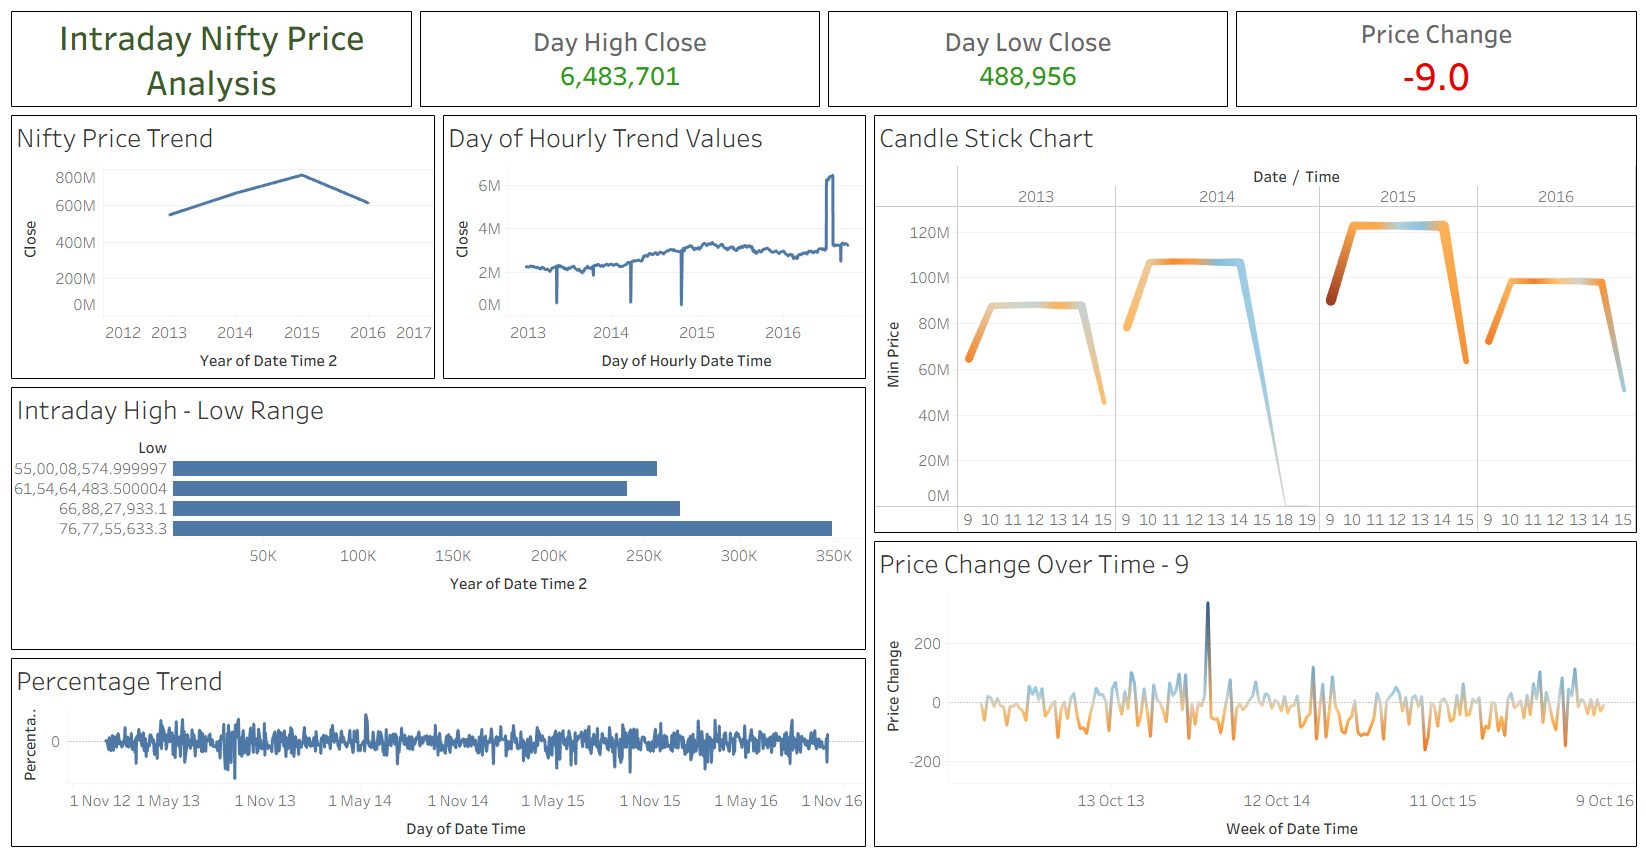

This screenshot's page, from the dashboard's own definition file:
{"tool":"tableau","page":{"name":"Dashboard 1","canvas":[1000,1000],"units":"permille","ordinal":0},"visuals":[{"type":"text","box":[4.9,9.3,247.6,120.9]},{"type":"text","box":[252.4,9.3,247.6,120.9]},{"type":"text","box":[500,9.3,247.6,120.9]},{"type":"text","box":[747.6,9.3,247.6,120.9]},{"type":"worksheet","title":"Nifty Price Trend","mark":"Automatic","rows":["close"],"cols":["Calculation_1051872017913851914"],"box":[4.9,130.2,261.5,316.2]},{"type":"worksheet","title":"Day of Hourly Trend Values","mark":"Automatic","rows":["close"],"cols":["Calculation_740279219029159936"],"box":[266.4,130.2,261.5,316.2]},{"type":"worksheet","title":"Candle Stick Chart","mark":"Automatic","rows":["Calculation_1051872017850372103"],"cols":["date","time"],"box":[527.9,130.2,467.3,495.2]},{"type":"worksheet","title":"Intraday High - Low Range","mark":"Automatic","rows":["low"],"cols":["Calculation_1051872017913851914"],"box":[4.9,446.5,523,315]},{"type":"worksheet","title":"Price Change Over Time","mark":"Automatic","rows":["Calculation_1051872017846329348"],"cols":["Calculation_1051872017912754185"],"box":[527.9,625.4,467.3,365.3]},{"type":"worksheet","title":"Percentage Trend","mark":"Automatic","rows":["Calculation_1051872017846509573"],"cols":["Calculation_1051872017912754185"],"box":[4.9,761.5,523,229.2]}]}

Visuals, with their boxes on the dashboard's canvas, which has no fixed pixel size, in thousandths of its width and height (x1, y1, x2, y2). These are canvas units, not pixel positions in the 1646x857 screenshot, which may show the page scaled, cropped or inside an application window:
text: {"x1": 5, "y1": 9, "x2": 252, "y2": 130}
text: {"x1": 252, "y1": 9, "x2": 500, "y2": 130}
text: {"x1": 500, "y1": 9, "x2": 748, "y2": 130}
text: {"x1": 748, "y1": 9, "x2": 995, "y2": 130}
"Nifty Price Trend" worksheet: {"x1": 5, "y1": 130, "x2": 266, "y2": 446}
"Day of Hourly Trend Values" worksheet: {"x1": 266, "y1": 130, "x2": 528, "y2": 446}
"Candle Stick Chart" worksheet: {"x1": 528, "y1": 130, "x2": 995, "y2": 625}
"Intraday High - Low Range" worksheet: {"x1": 5, "y1": 446, "x2": 528, "y2": 762}
"Price Change Over Time" worksheet: {"x1": 528, "y1": 625, "x2": 995, "y2": 991}
"Percentage Trend" worksheet: {"x1": 5, "y1": 762, "x2": 528, "y2": 991}
